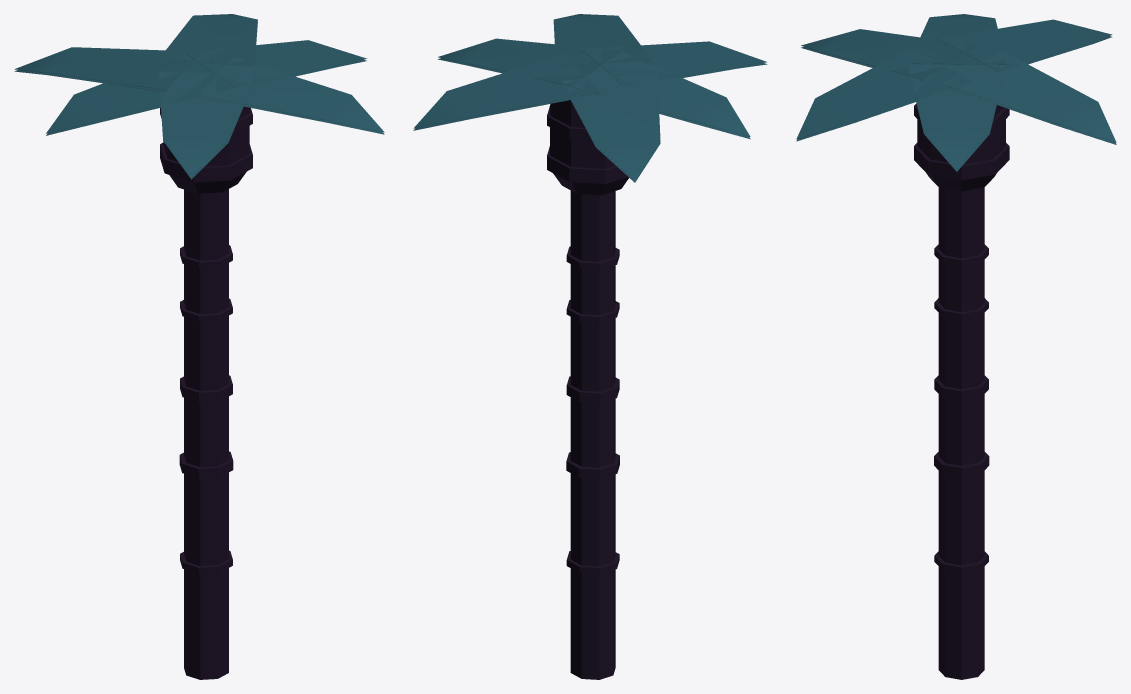
Rendered from Palm (4).fbx.
The picture shows the model from 3 angles, left to right: view 1: azimuth 30°, elevation 25°; view 2: azimuth 150°, elevation 25°; view 3: azimuth 270°, elevation 25°; orthographic projection.
Visible parts, largest first — view 1: palm; view 2: palm; view 3: palm.
Boxes of the visible parts, bbox=[...] form: palm: bbox=[14, 14, 384, 679]; palm: bbox=[413, 14, 767, 679]; palm: bbox=[796, 14, 1116, 679].
Size of the model in its own units: 1.73 by 3.14 by 1.5.
1 material, 1 textured.
